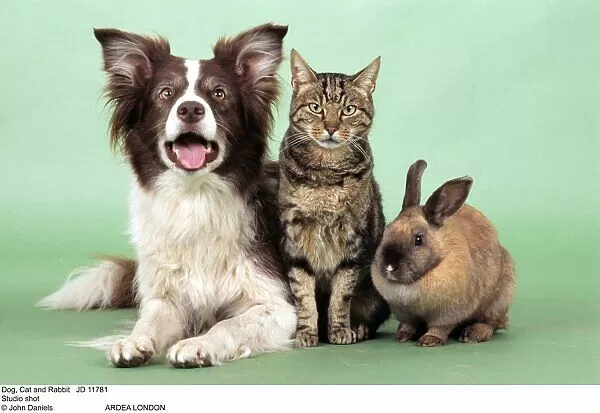cat: (289, 57, 382, 336)
dog: (94, 26, 284, 316)
rabbit: (379, 158, 526, 341)
